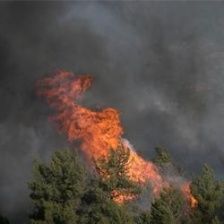fire: (69, 98, 155, 194)
smoke: (1, 6, 74, 180)
